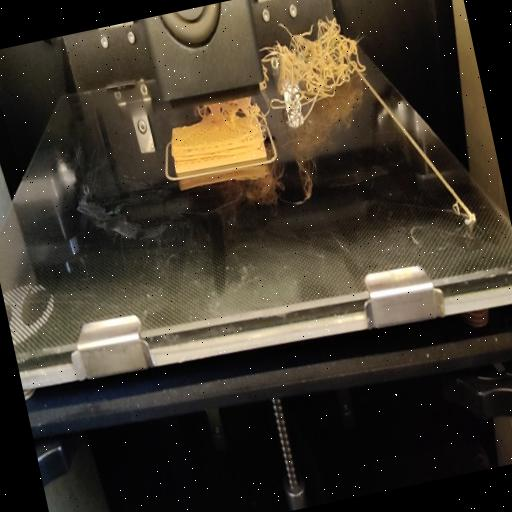spaghetti: (254, 6, 376, 122), (190, 88, 270, 142)
